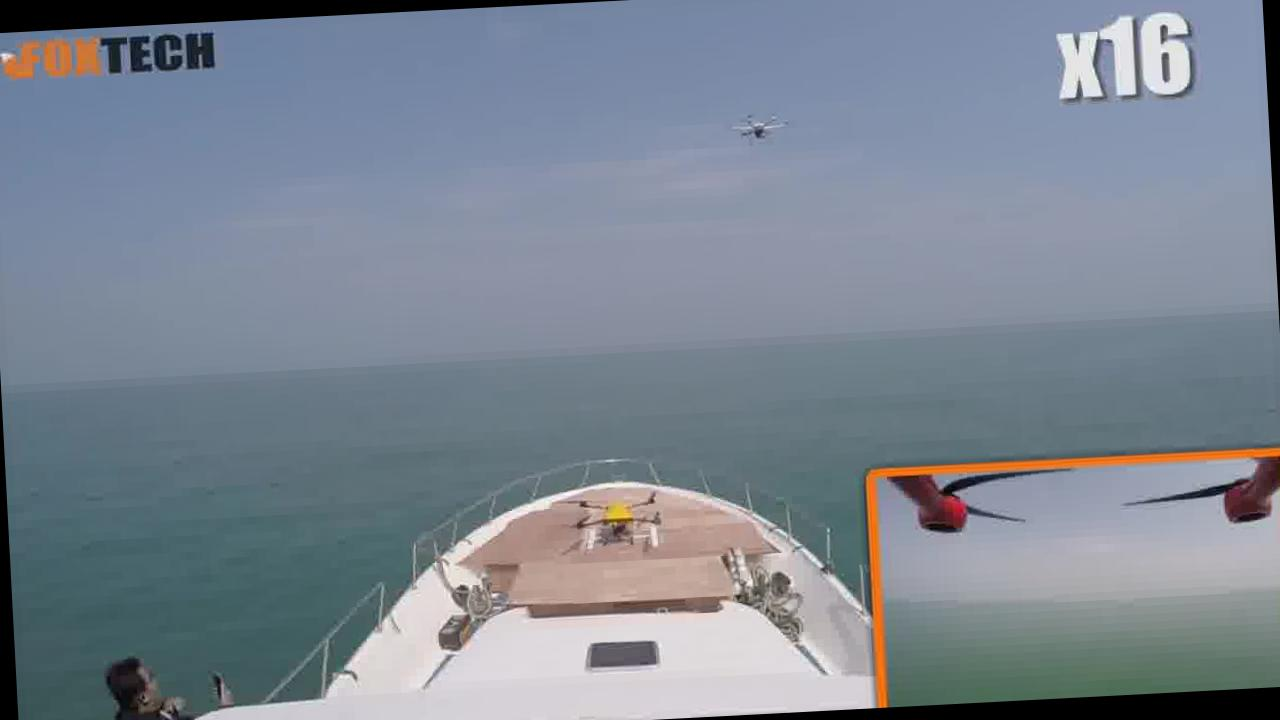drone: (548, 476, 662, 562), (682, 102, 801, 182)
